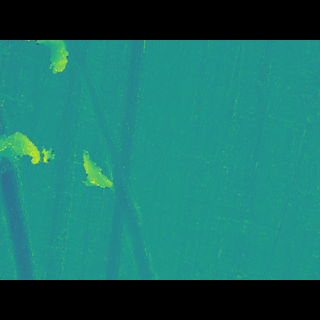Loch: (61, 69, 162, 251), (0, 159, 42, 250), (0, 136, 57, 168), (76, 149, 121, 184), (25, 68, 80, 96)
